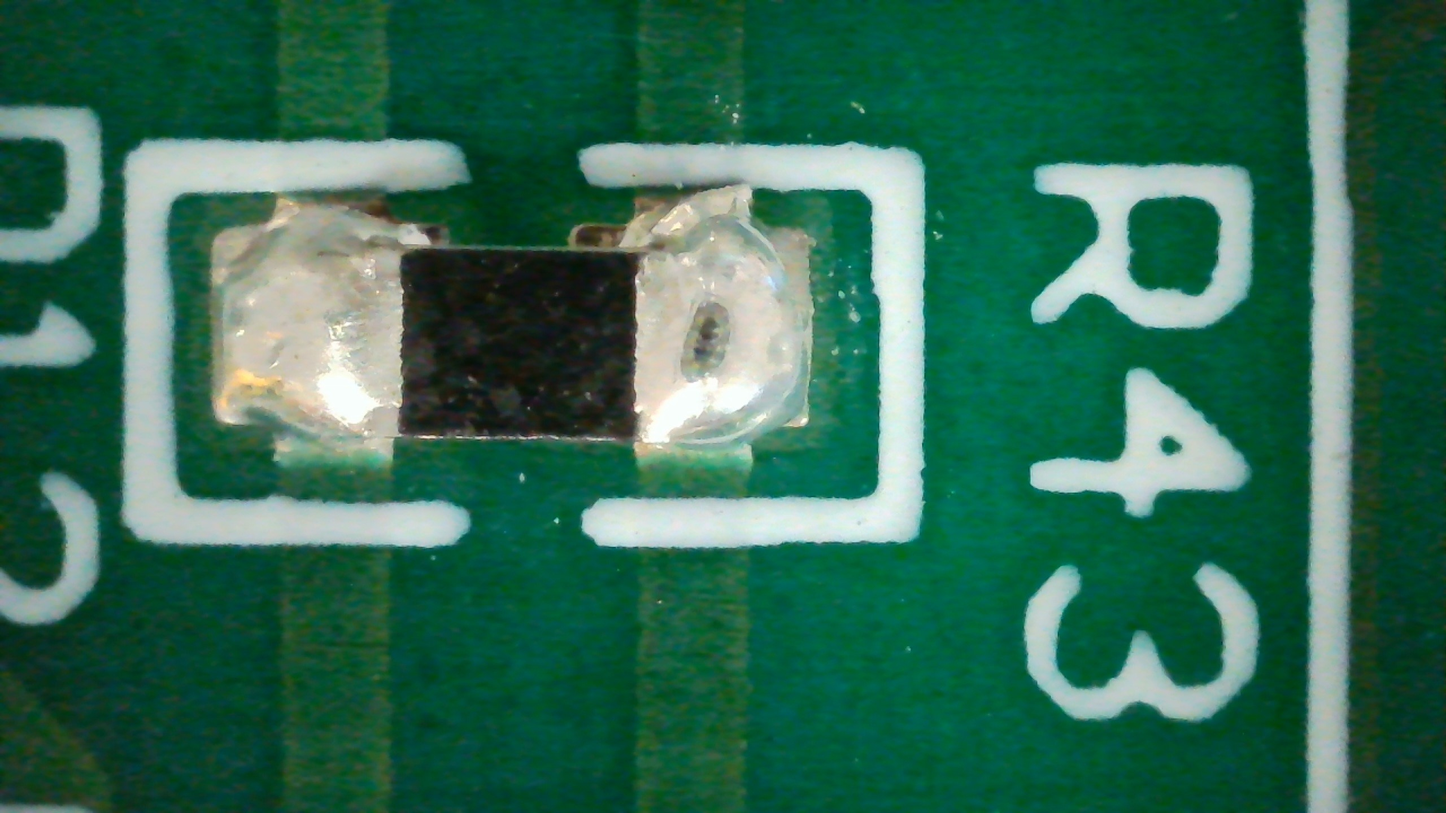OK: (209, 186, 809, 464)
